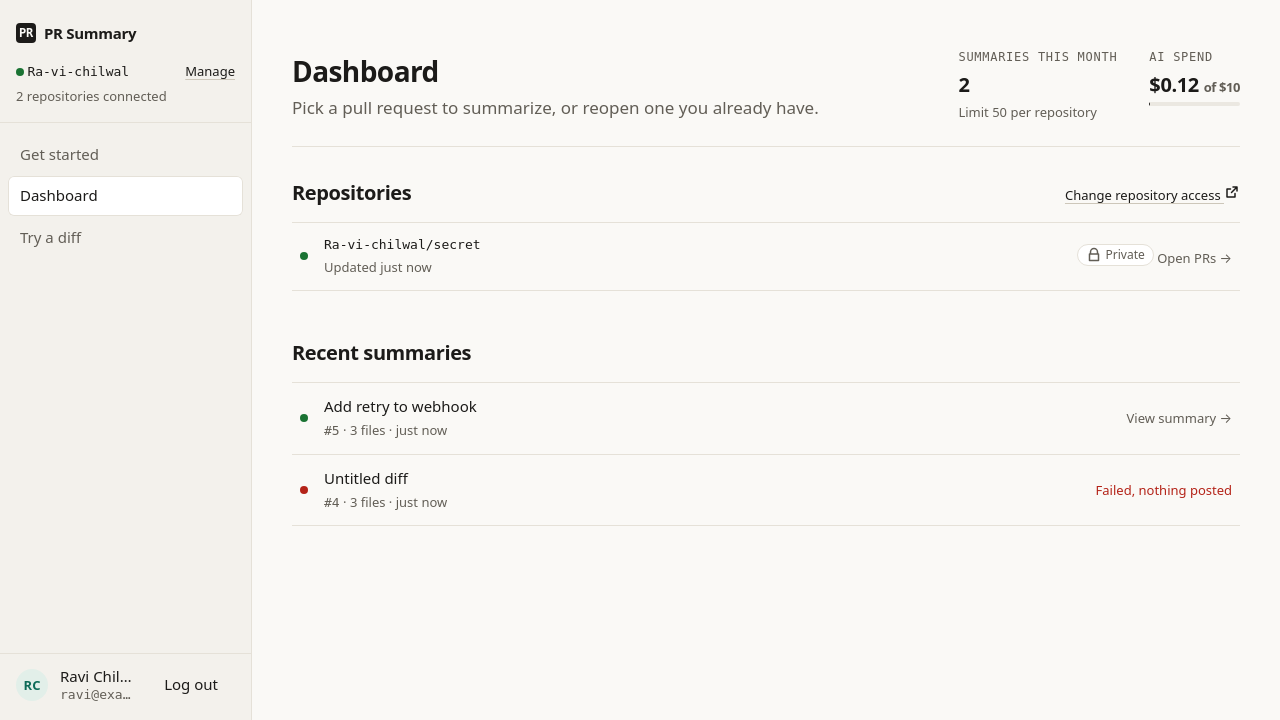
Test: Dashboard › lists repos with a Private badge, then open PRs, then summarizes one
Check: the text "Private" is shown, box [1076,244,1154,266]
What coordinates should you click on to do the following:
click the text "Ra-vi-chilwal/secret"
I would click on:
 (402, 244)
Its box is [324,237,480,252].
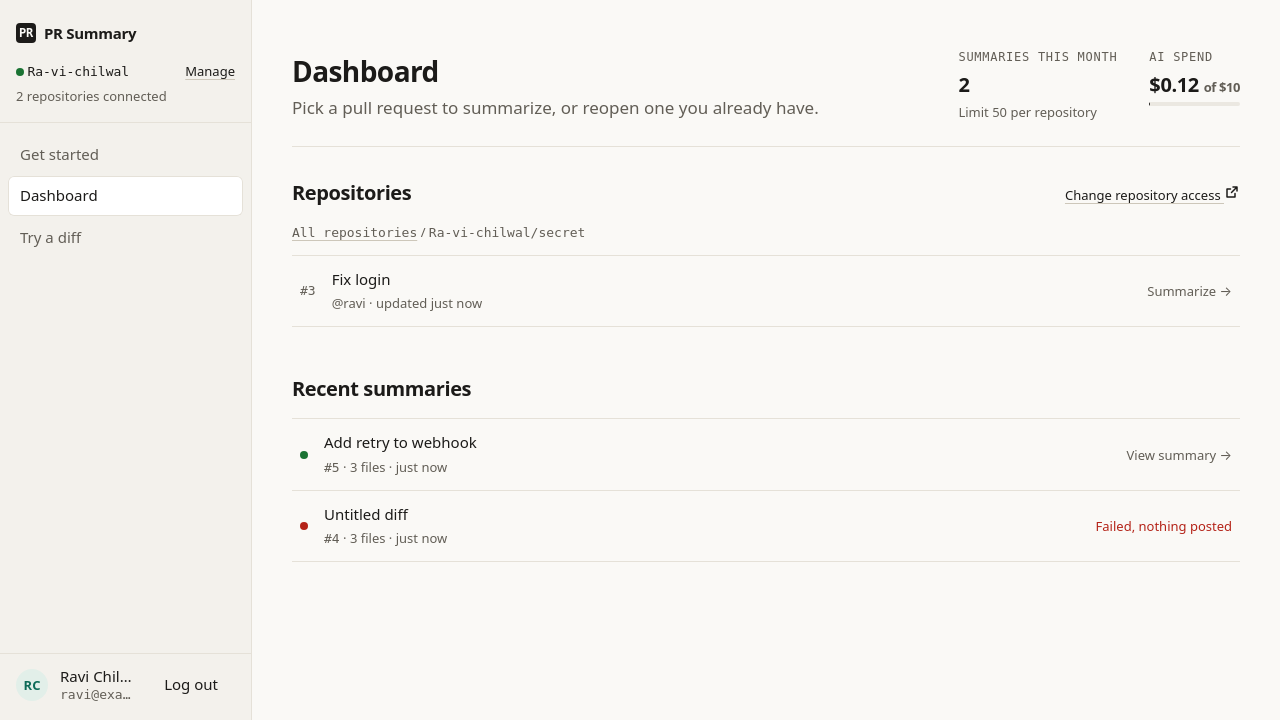
What coordinates should you click on to do the following:
click the text "Fix login"
I would click on:
 (361, 279)
Its box is [332,269,390,289].
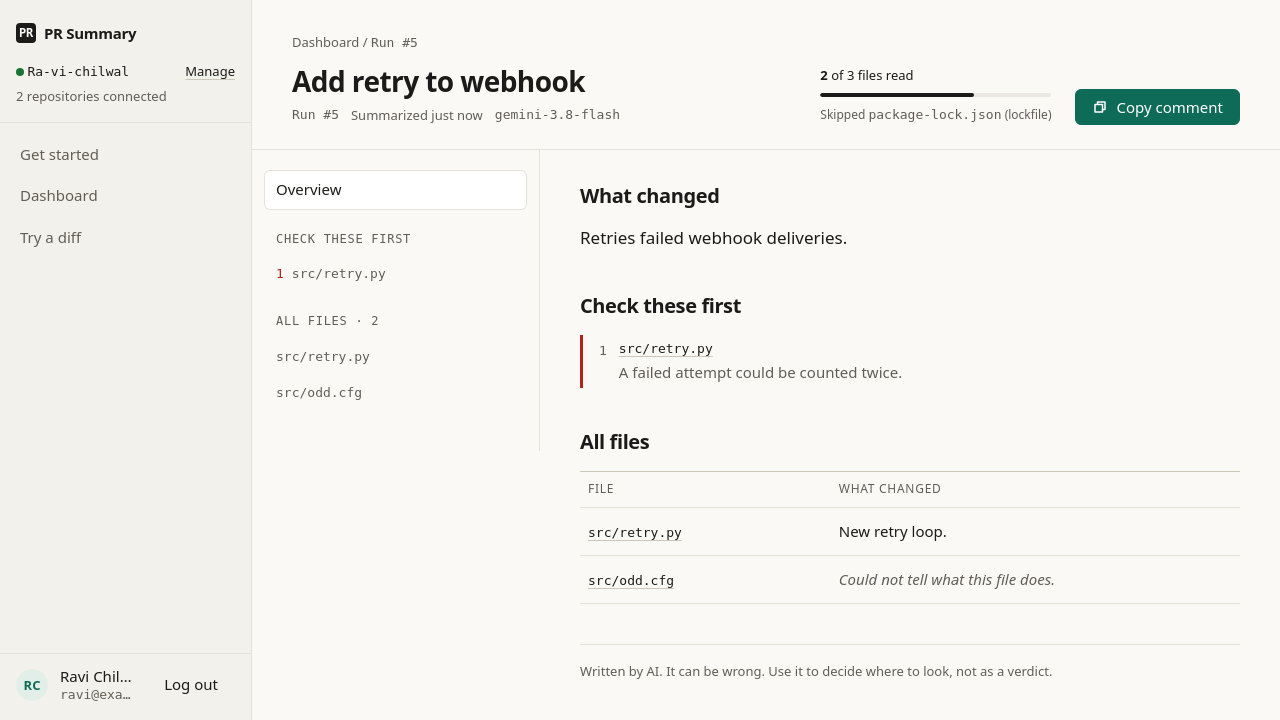
Check: the text "Retries failed webhook deliveries." is shown, box [580,226,847,250]
